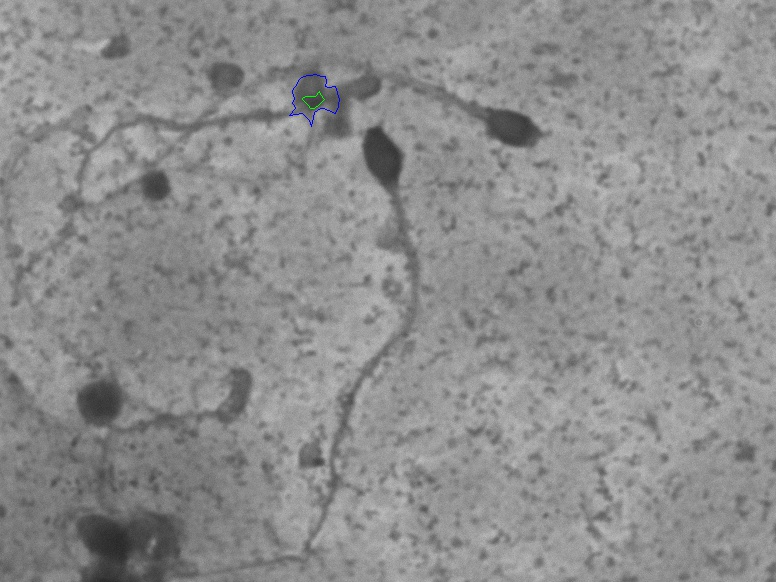Normal: (4, 43, 565, 308), (218, 114, 432, 576)
